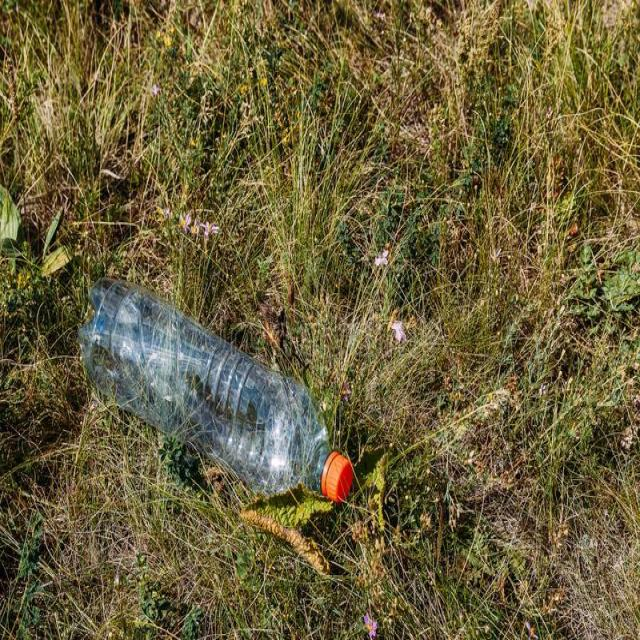bottle: (71, 268, 363, 523)
